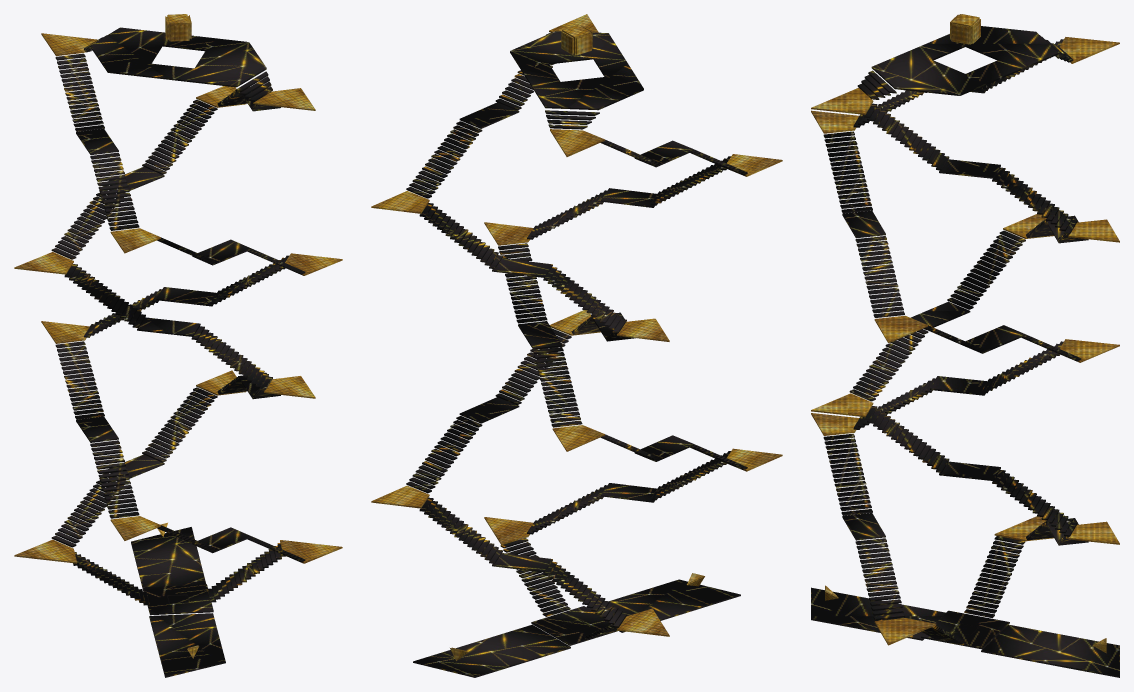
The model's file is L001_collider.glb.
The picture shows the model from 3 angles, left to right: view 1: azimuth 30°, elevation 25°; view 2: azimuth 150°, elevation 25°; view 3: azimuth 270°, elevation 25°; orthographic projection. The views are drawn at different scales.
Visible parts, largest first — view 1: L; view 2: L; view 3: L.
Boxes of the visible parts, box(x1,y1,x2,y2) form: L: box(14, 14, 342, 677); L: box(371, 14, 782, 677); L: box(811, 14, 1119, 677).
Size of what is drawn, in the model's own units: 25.87 by 56.71 by 25.87.
Materials: 1 (1 with a texture image).
